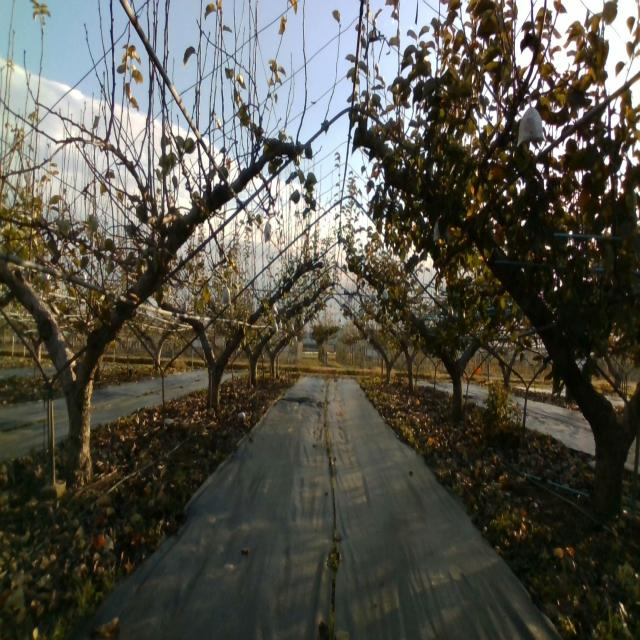pearbags: (516, 96, 545, 148), (220, 282, 232, 306)
